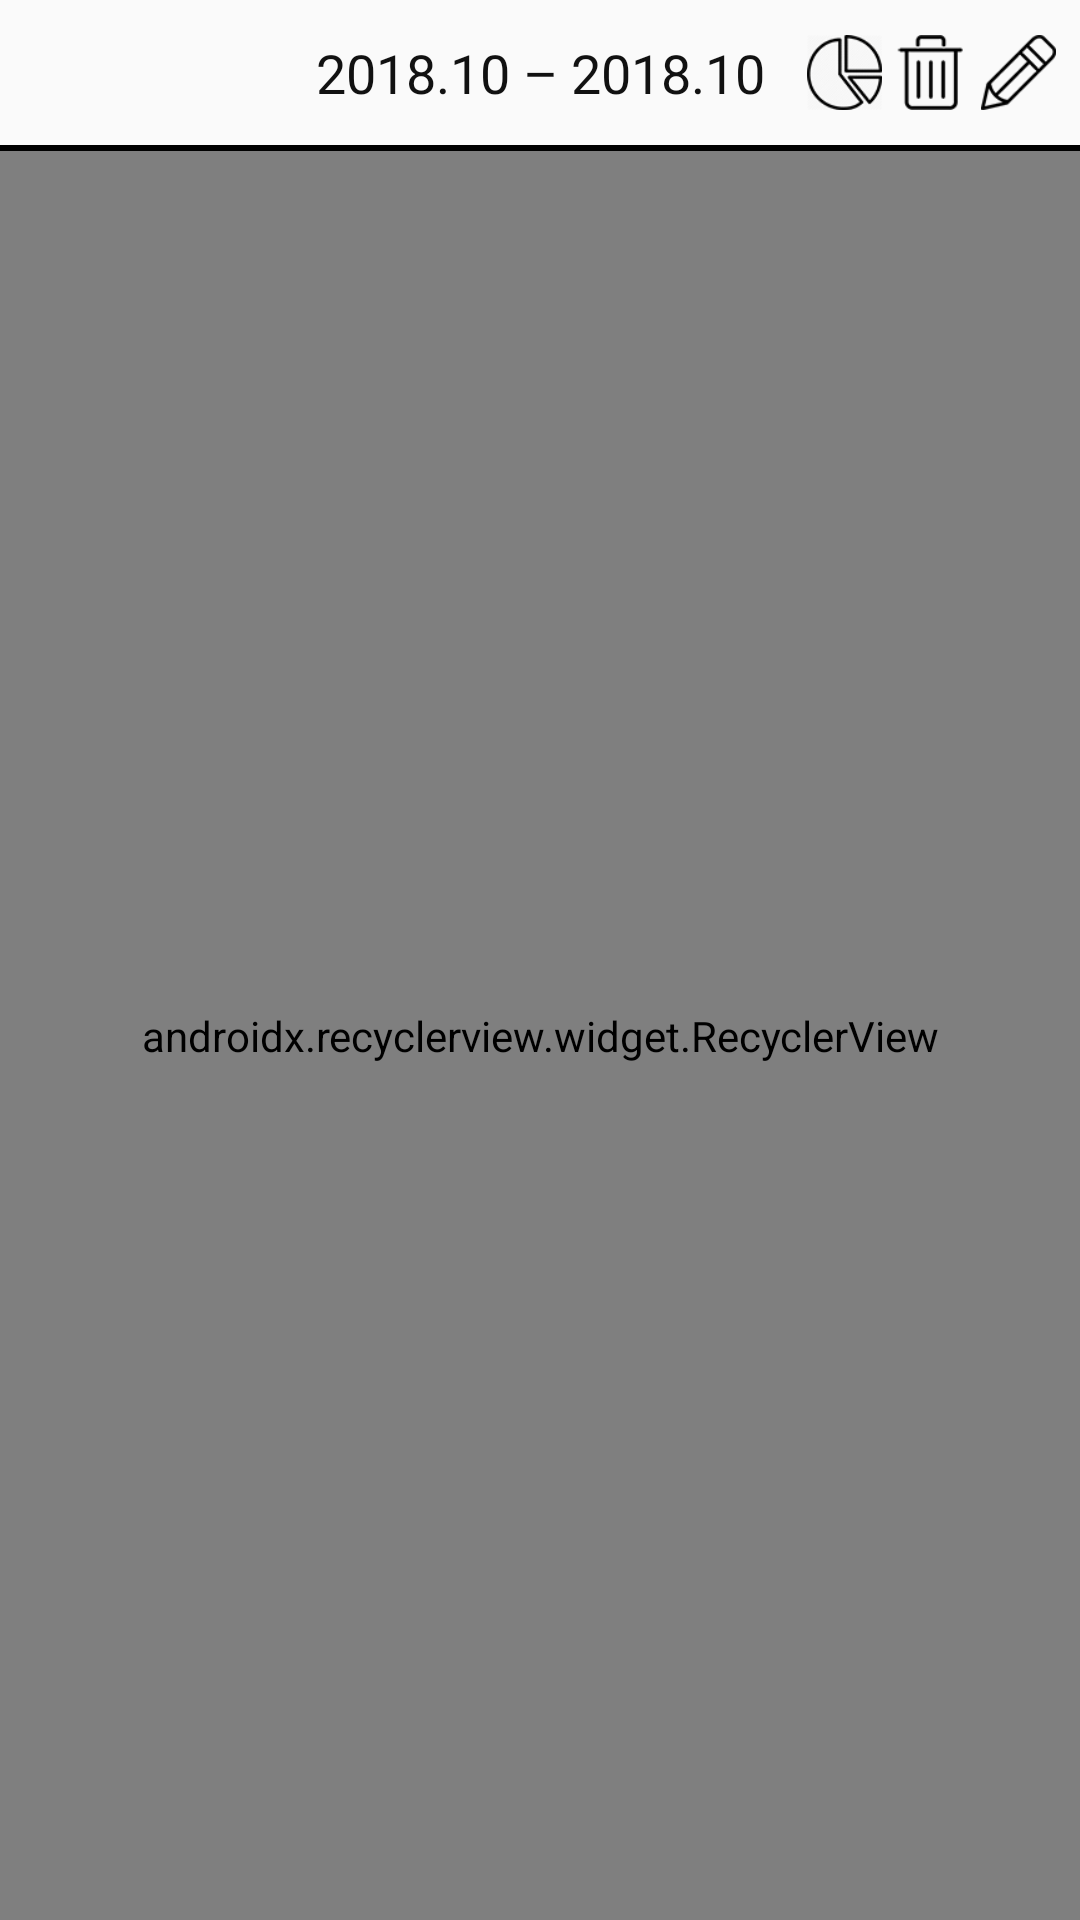

Screen size 1080px x 1920px. Icon name, then its center in pixels as (x=x, y=y):
chart: (x=844, y=72)
pencil: (x=1018, y=72)
trashcan: (x=930, y=72)
